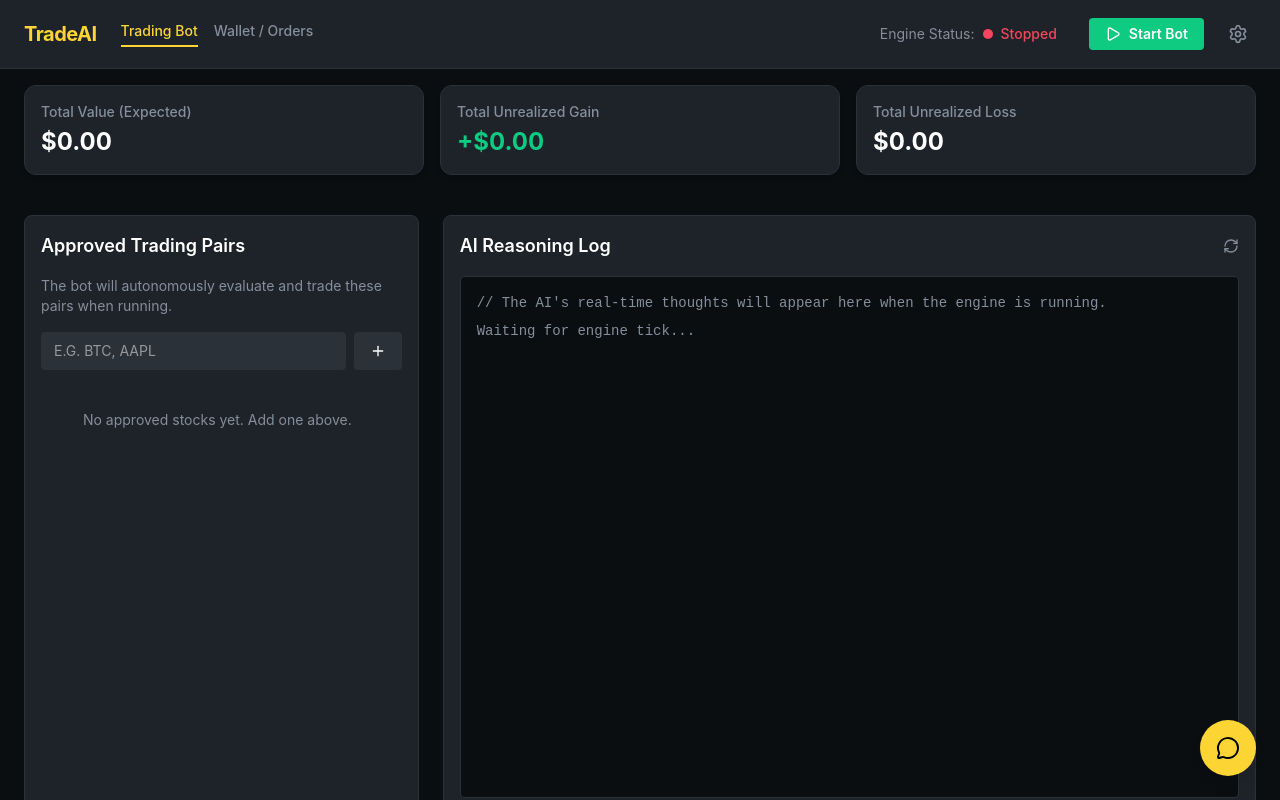
Test: App › renders main layout and fetches data
The image size is (1280, 800).
Expected: the heading "TradeAI" is shown, [24,20,97,48]
Expected: the button "Trading Bot" is shown, [121,21,198,47]
// Switch tabs
Click the button "Wallet / Orders" at [264, 34], box [214,21,313,47]
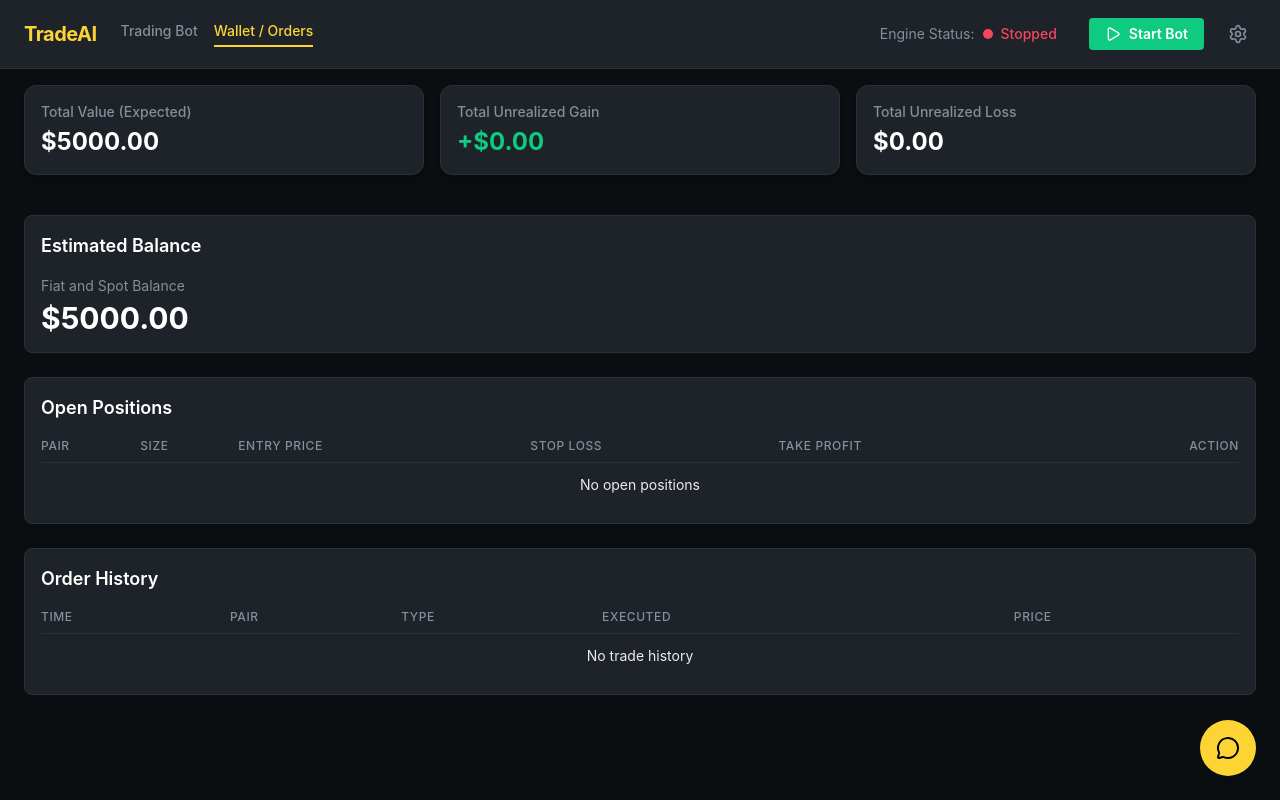
Expected: the heading "Estimated Balance" is shown, [41,235,201,256]
Click the button "Trading Bot" at [159, 34], box [121,21,198,47]
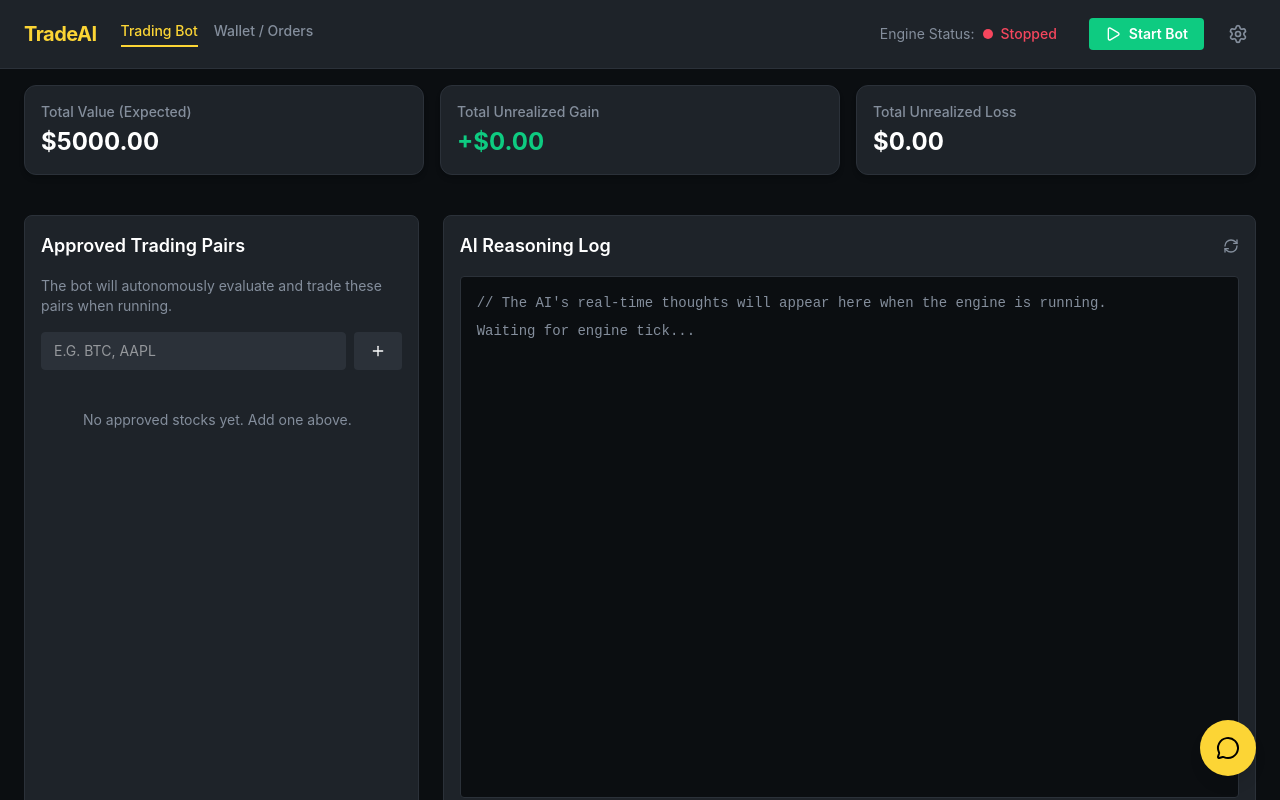
Expected: the heading "Approved Trading Pairs" is shown, [41,235,245,256]
